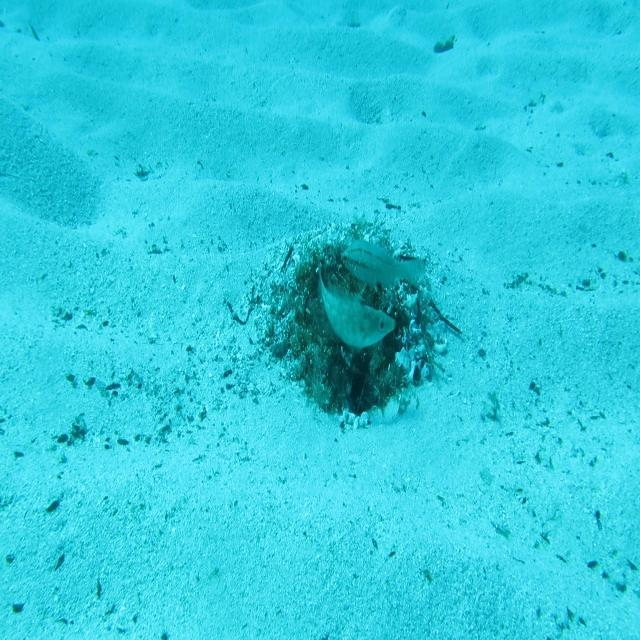vegetation: (435, 36, 457, 56)
